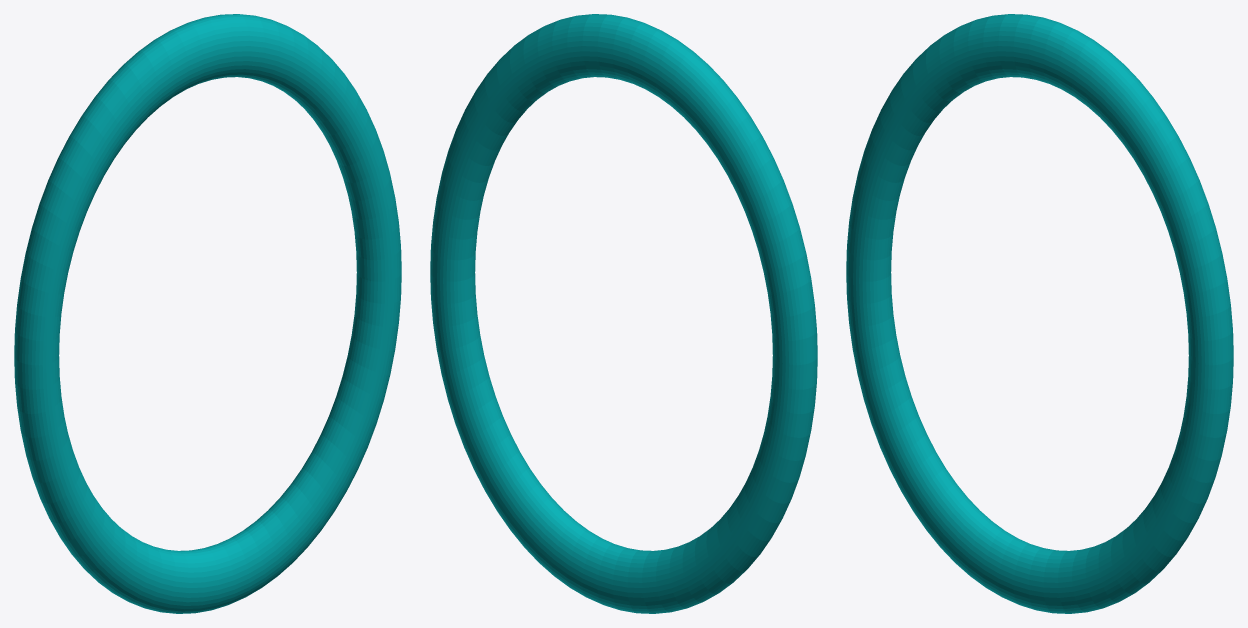
The picture shows the model from 3 angles, left to right: view 1: azimuth 30°, elevation 25°; view 2: azimuth 150°, elevation 25°; view 3: azimuth 330°, elevation 25°; orthographic projection.
Visible parts, largest first — view 1: main.001; view 2: main.001; view 3: main.001.
Boxes of the visible parts, bbox=[...] form: main.001: bbox=[14, 14, 401, 613]; main.001: bbox=[430, 14, 817, 613]; main.001: bbox=[846, 14, 1233, 613].
Size of the model in its own units: 4.74 by 7.02 by 0.4823.
